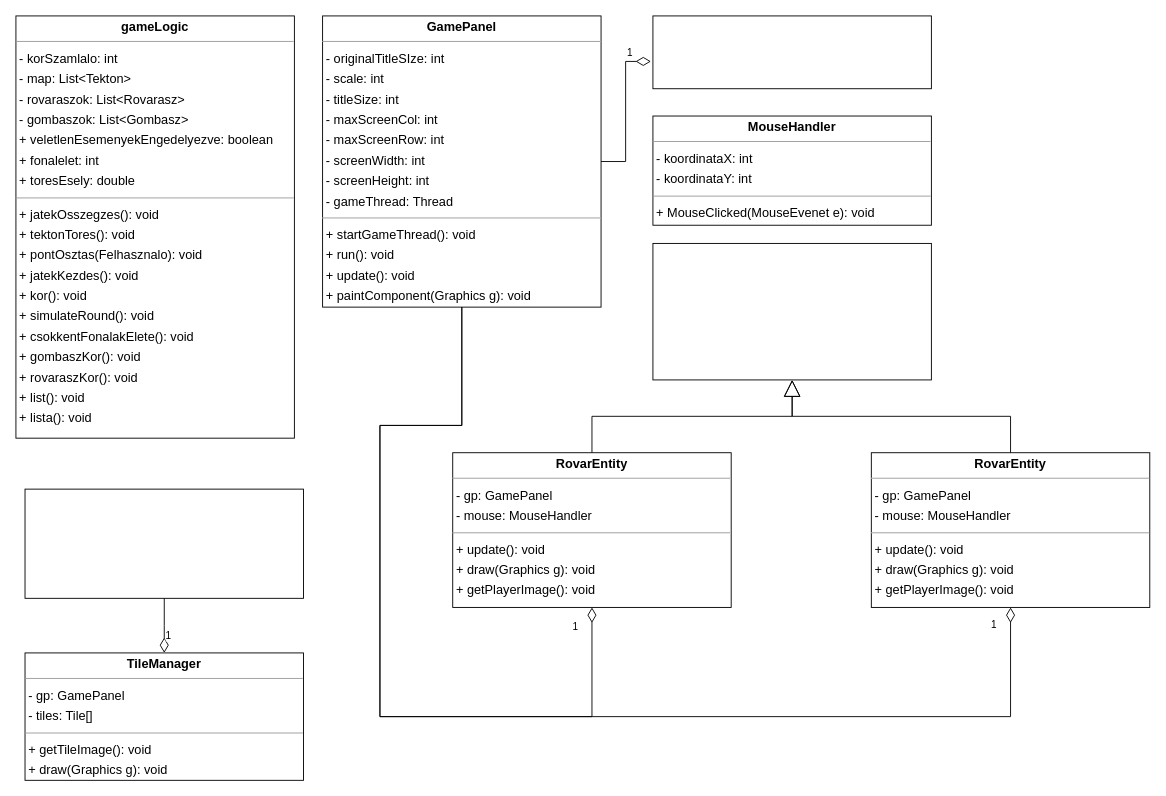
The diagram is 1166 pixels wide and 796 high, and some of its shapes have lost their labels. Here are the shapes that lost their labels. From the top down, the centre of each, then its label:
At (x=791, y=52): "Main - gamePanel: GamePanel - window: JFrame".
At (x=791, y=311): "Entity - x: int - y: int - speed: int + MouseClicked(MouseEvenet e): void".
At (x=163, y=543): "Tile - image: BufferedImage - tekton: boolean + update(): void".
